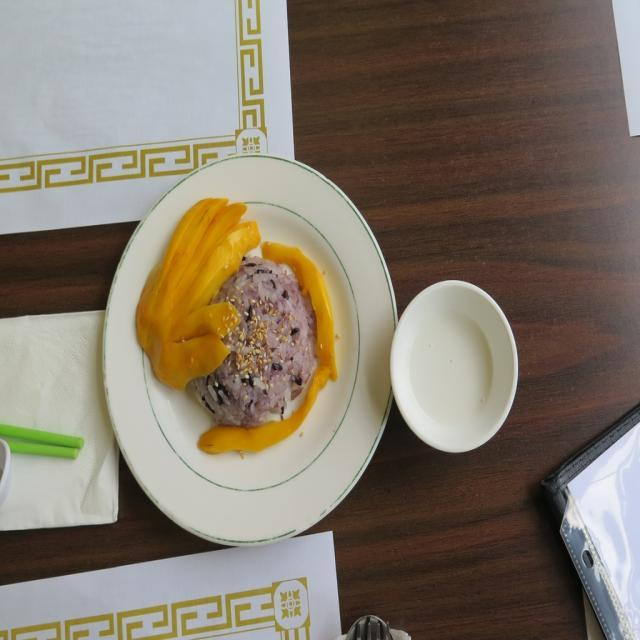ceramic plate: (100, 145, 394, 572)
